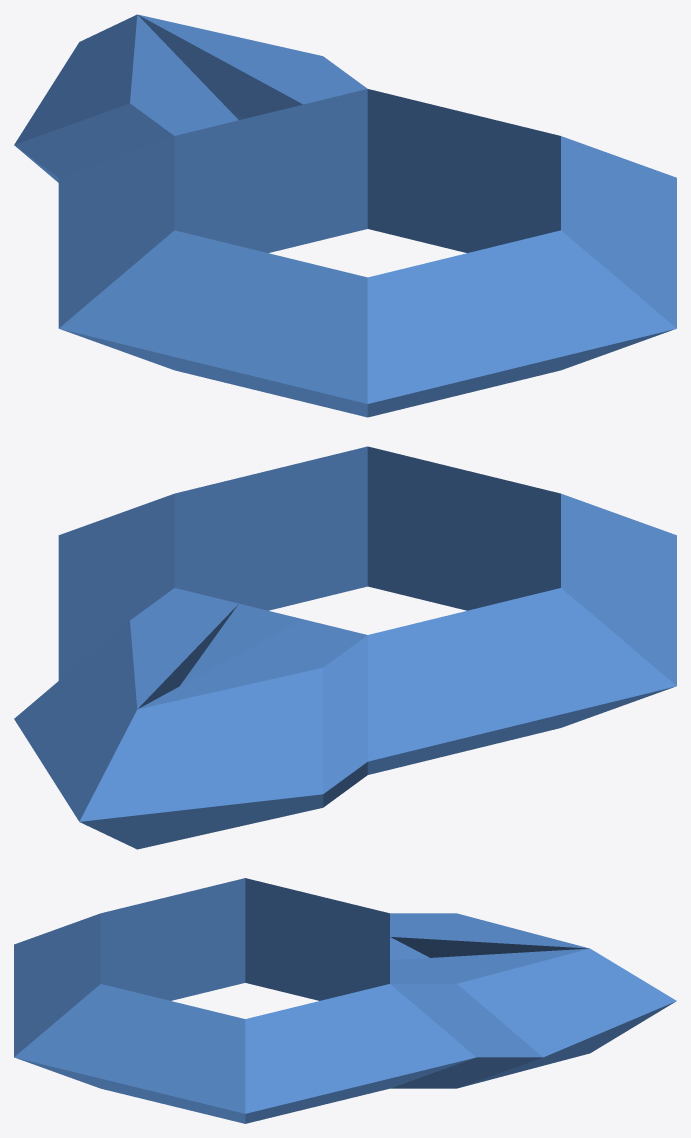
File: SpawningPoint.fbx
The picture shows the model from 3 angles, top to bottom: view 1: azimuth 30°, elevation 25°; view 2: azimuth 150°, elevation 25°; view 3: azimuth 270°, elevation 25°; orthographic projection. The views are drawn at different scales.
Parts seen in each view (by area): view 1: Torus; view 2: Torus; view 3: Torus.
Boxes of the visible parts, x1=… form: Torus: x1=14, y1=14, x2=676, y2=417; Torus: x1=14, y1=446, x2=676, y2=849; Torus: x1=14, y1=878, x2=676, y2=1123.
Bounding box in the file's own units: 400 × 86.6 × 496.
